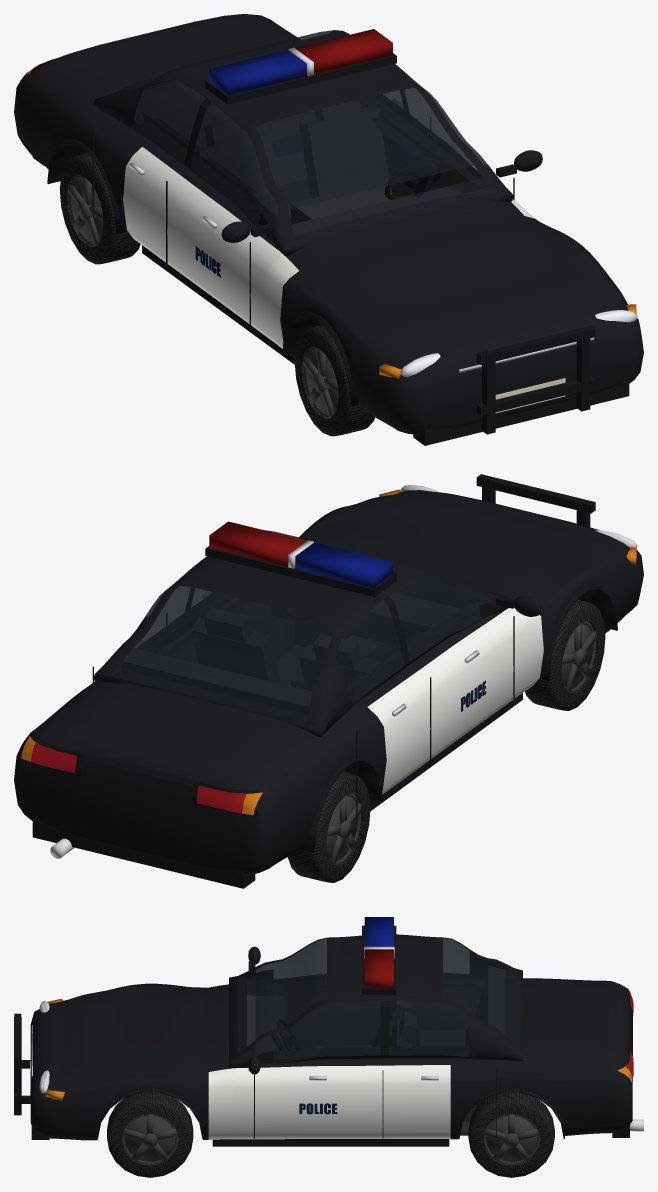
Rendered from car_police.glb.
The picture shows the model from 3 angles, top to bottom: view 1: azimuth 30°, elevation 25°; view 2: azimuth 150°, elevation 25°; view 3: azimuth 270°, elevation 25°; orthographic projection. The views are drawn at different scales.
Visible parts, largest first — view 1: Body, wheel_FR, wheel_RR, Door_L; view 2: Body, wheel_RR, wheel_FR; view 3: Body, Door_L, wheel_RL, wheel_FL.
Boxes of the visible parts, bbox=[...] form: Body: bbox=[14, 14, 643, 445]; wheel_FR: bbox=[294, 325, 374, 436]; wheel_RR: bbox=[59, 153, 140, 264]; Door_L: bbox=[395, 64, 514, 187]; Body: bbox=[14, 474, 643, 888]; wheel_RR: bbox=[287, 771, 370, 882]; wheel_FR: bbox=[525, 599, 605, 710]; Body: bbox=[14, 917, 643, 1146]; Door_L: bbox=[255, 1001, 382, 1136]; wheel_RL: bbox=[468, 1092, 554, 1177]; wheel_FL: bbox=[107, 1092, 193, 1177].
Size of the model in its own units: 2.24 by 1.58 by 4.95.
16 materials, 1 textured.
